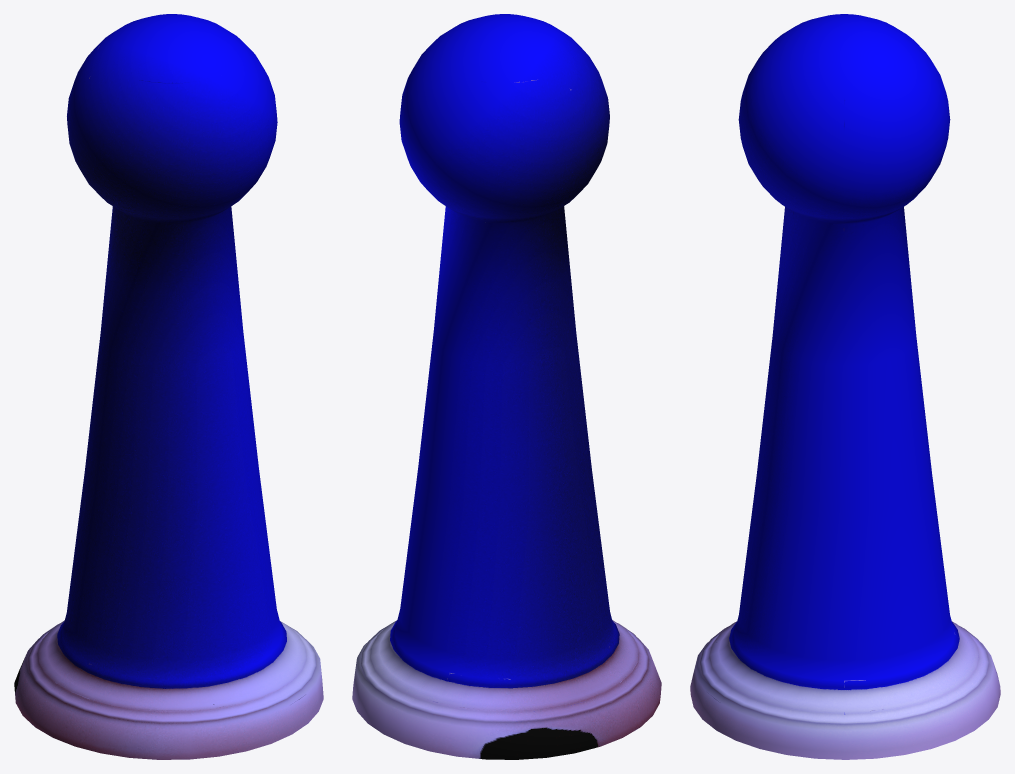
The model's file is blue_pawn.gltf.
3 views of the same model, side by side, from view 1: azimuth 30°, elevation 25°; view 2: azimuth 150°, elevation 25°; view 3: azimuth 270°, elevation 25° (orthographic).
Parts seen in each view (by area): view 1: pawn_lp; view 2: pawn_lp; view 3: pawn_lp.
Boxes of the visible parts, x1,y1,x2,y2 form: pawn_lp: (14, 14, 323, 759); pawn_lp: (352, 14, 661, 759); pawn_lp: (690, 14, 1000, 759).
Bounding box in the file's own units: 0.7037 × 1.68 × 0.7024.
1 material, 1 textured.
